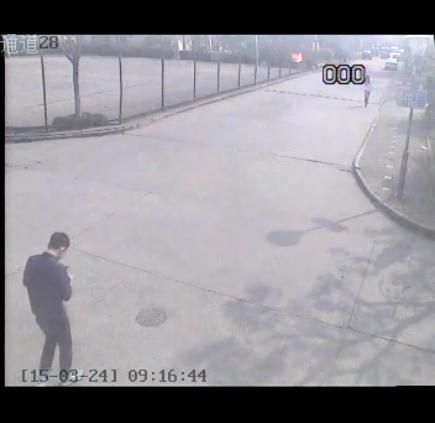person: (10, 219, 98, 388)
